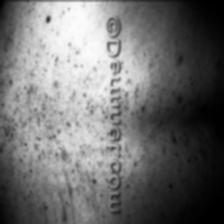Toxin: (0, 48, 105, 210), (126, 57, 224, 189)
